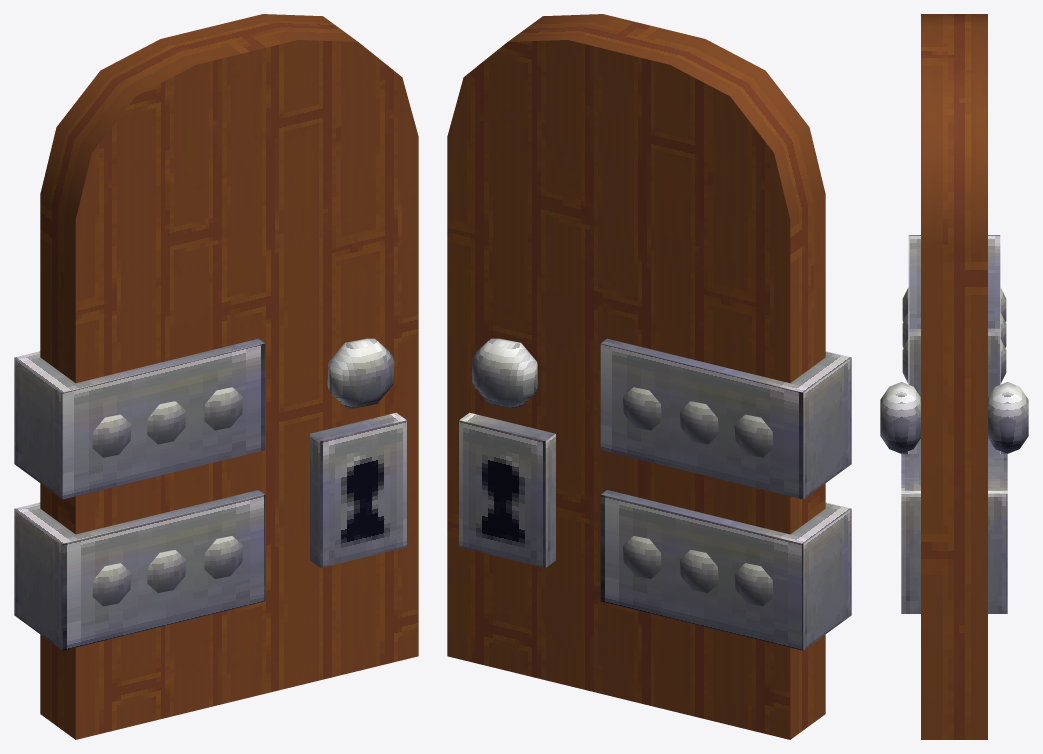
The model's file is Door.fbx.
The picture shows the model from 3 angles, left to right: view 1: azimuth 30°, elevation 25°; view 2: azimuth 150°, elevation 25°; view 3: azimuth 270°, elevation 25°; orthographic projection. The views are drawn at different scales.
Visible parts, largest first — view 1: Door; view 2: Door; view 3: Door.
Boxes of the visible parts, left/top/right/bottom form: Door: left=14, top=14, right=418, bottom=739; Door: left=447, top=14, right=851, bottom=739; Door: left=880, top=14, right=1028, bottom=739.
Bounding box in the file's own units: 0.9511 × 1.62 × 0.3565.
